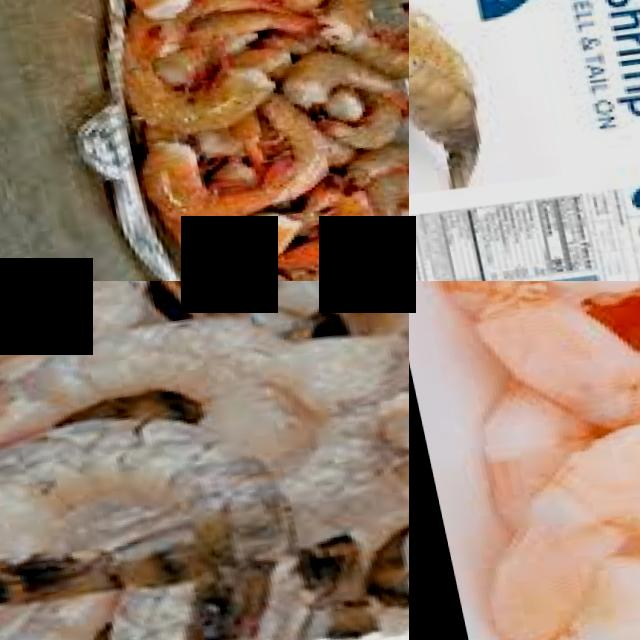shrimp: (0, 395, 305, 640), (443, 395, 640, 640), (0, 306, 273, 462), (460, 281, 640, 440), (138, 126, 250, 229), (123, 62, 272, 139), (0, 281, 158, 344), (242, 98, 330, 200), (267, 40, 397, 106), (181, 0, 320, 55), (332, 134, 409, 188), (315, 105, 404, 150), (364, 0, 409, 76), (112, 0, 208, 22)
